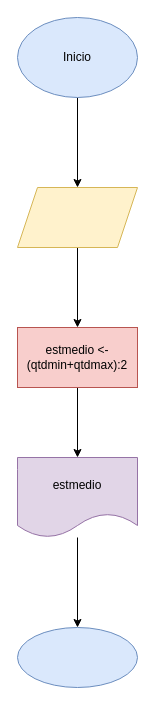
The diagram is 155 pixels wide and 705 high, and some of its shapes have lost their labels. Each missing label, with the centre of its shape:
"qtdmin,qtdmax, estmedio" goes at (77,217).
"Saida" goes at (77,657).
